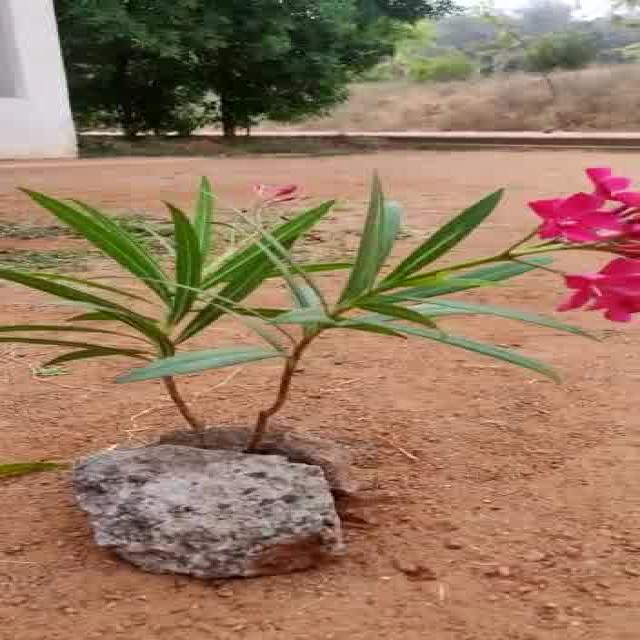Oleander: (3, 189, 640, 389)
